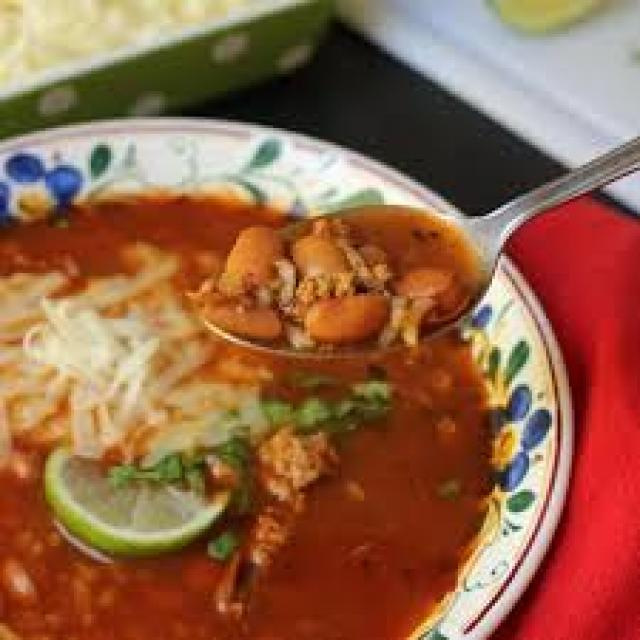organic waste: (0, 196, 501, 637), (0, 247, 259, 461), (199, 208, 481, 332), (42, 424, 224, 549), (205, 484, 301, 600), (247, 418, 350, 492), (293, 276, 398, 336), (194, 279, 290, 338), (219, 222, 287, 284), (290, 222, 356, 281), (350, 233, 404, 284), (396, 259, 450, 307)
